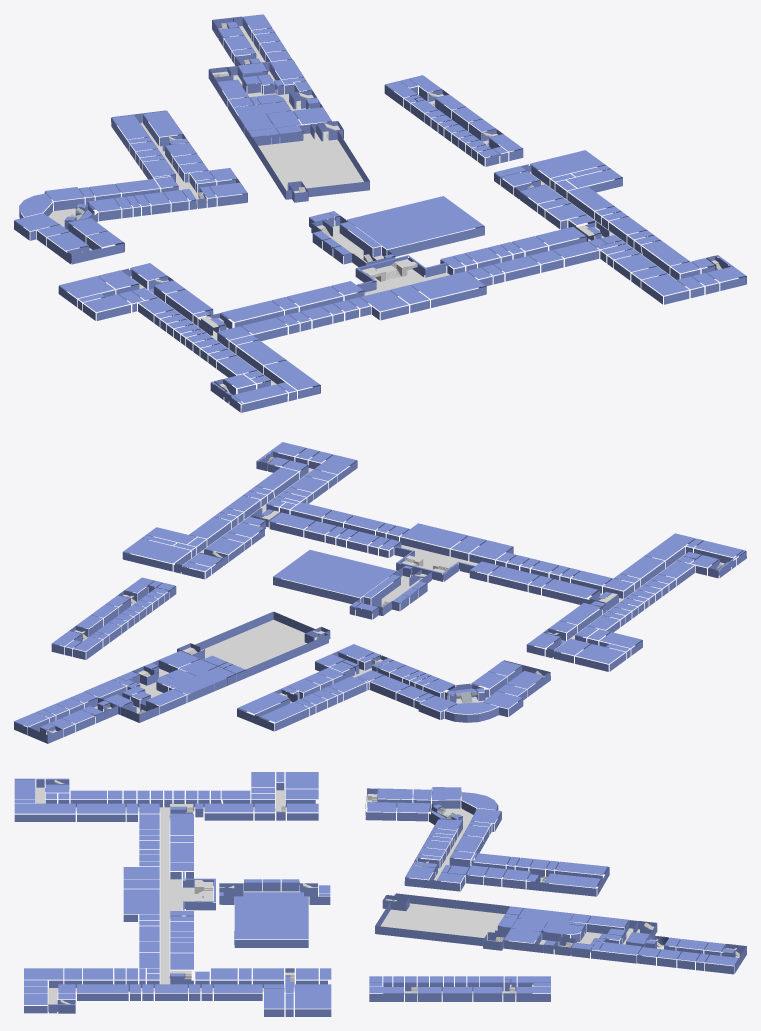
File: dstu_3.glb
The picture shows the model from 3 angles, top to bottom: view 1: azimuth 30°, elevation 25°; view 2: azimuth 150°, elevation 25°; view 3: azimuth 270°, elevation 25°; orthographic projection. The views are drawn at different scales.
Parts seen in each view (by area): view 1: 3, 7.3; view 2: 3, 7.3; view 3: 3, 7.3.
Part boxes in pixels (x1,y1,x2,y2): 3: [14, 75, 746, 413]; 7.3: [208, 14, 369, 202]; 3: [51, 442, 746, 731]; 7.3: [14, 611, 330, 743]; 3: [14, 772, 609, 1016]; 7.3: [375, 893, 746, 974].
Bounding box in the file's own units: 180 × 4.44 × 235.
